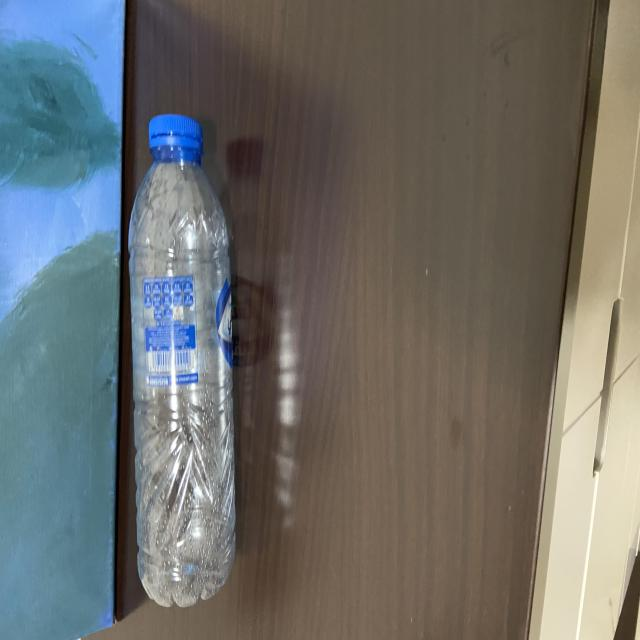plastic: (126, 109, 241, 610)
